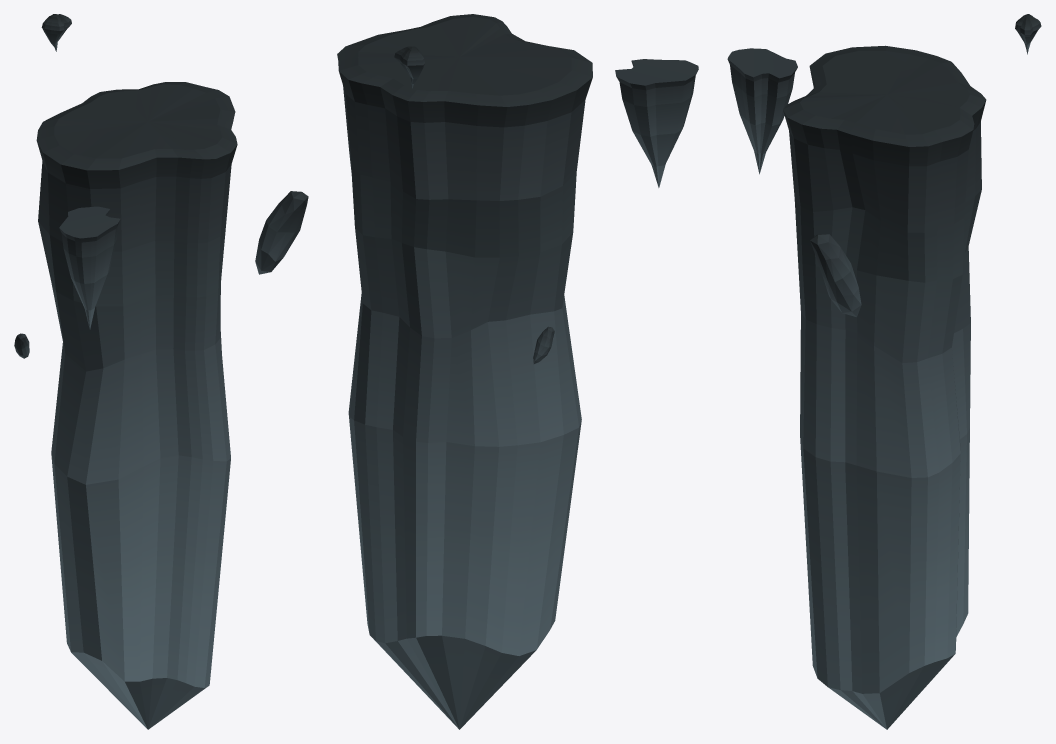
The model's file is Limbo_Layer.fbx.
3 renders of one model, left to right at view 1: azimuth 30°, elevation 25°; view 2: azimuth 150°, elevation 25°; view 3: azimuth 270°, elevation 25°, orthographic. The views are drawn at different scales.
Visible parts, largest first — view 1: Vert.001, Vert.002, Vert.003, Icosphere, Vert.004, Vert.005; view 2: Vert.001, Vert.002, Vert.003, Vert.004, Vert.005; view 3: Vert.001, Vert.002, Vert.003, Icosphere, Vert.004, Vert.005.
Boxes of the visible parts, x1,y1,x2,y2 form: Vert.001: (38, 161, 231, 729); Vert.002: (36, 82, 237, 188); Vert.003: (61, 216, 118, 329); Icosphere: (255, 191, 308, 274); Vert.004: (59, 206, 120, 242); Vert.005: (41, 14, 71, 51); Vert.001: (343, 86, 585, 729); Vert.002: (337, 14, 592, 127); Vert.003: (619, 76, 695, 187); Vert.004: (615, 59, 698, 90); Vert.005: (394, 46, 424, 88); Vert.001: (789, 121, 981, 729); Vert.002: (783, 45, 986, 166); Vert.003: (730, 65, 794, 174); Icosphere: (810, 234, 861, 316); Vert.004: (727, 48, 797, 82); Vert.005: (1015, 14, 1041, 54).
Bounding box in the file's own units: 625 × 1451 × 588.
3 materials, 3 textured.
